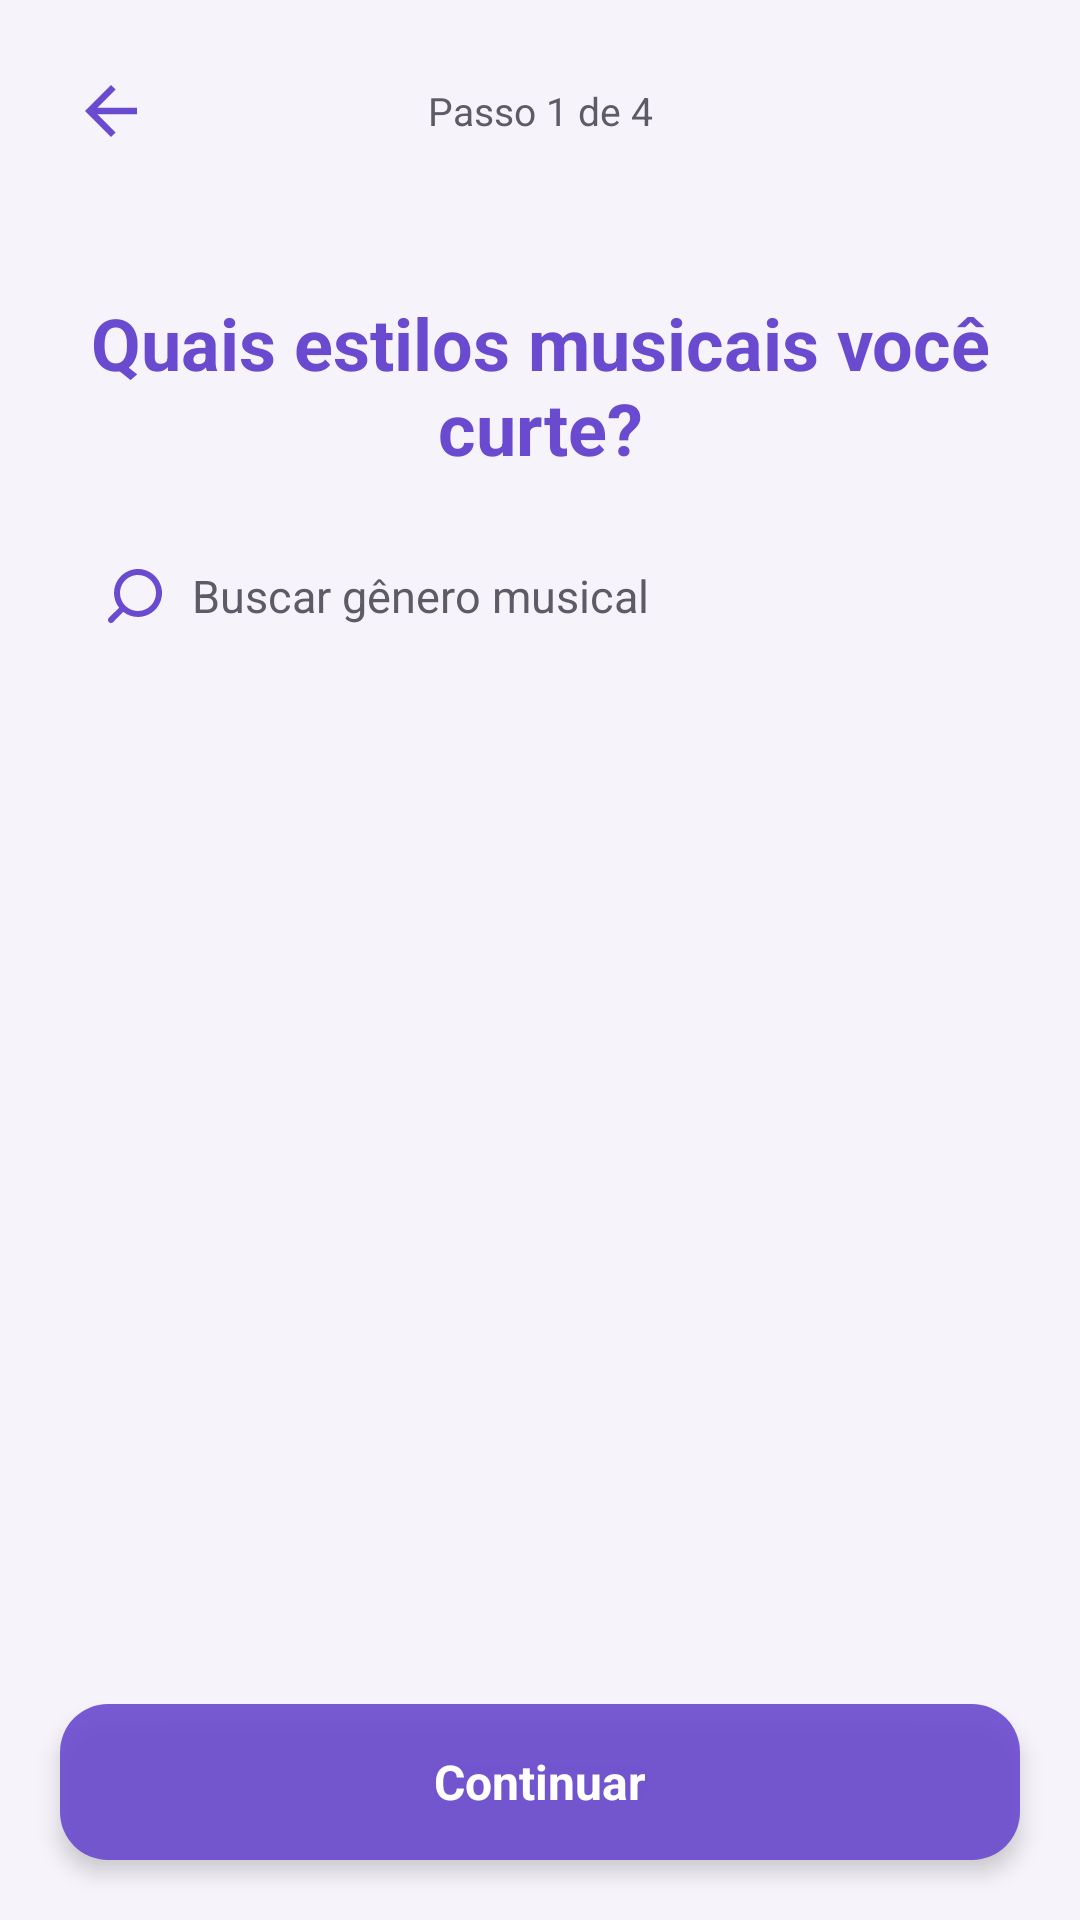

Icon click points for this 1080×1920 phone screenshot, format (x,y):
back: (111,111)
search: (135,596)
